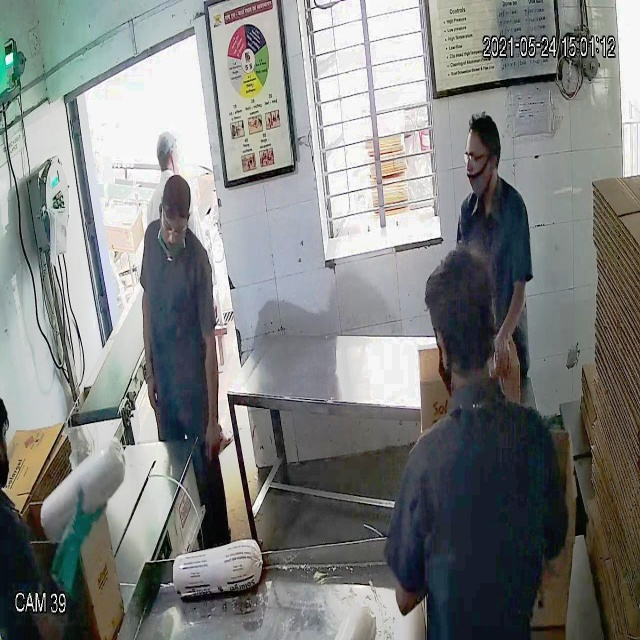Gafas: (158, 208, 192, 242), (462, 146, 498, 171)
